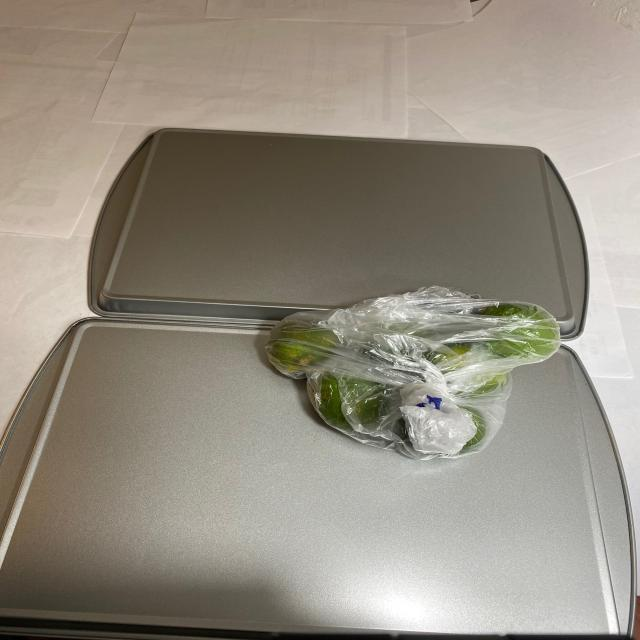lemon: (264, 305, 556, 457)
